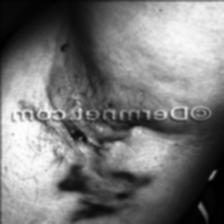Non-Cancerous Skin Condition: (25, 130, 144, 224)
